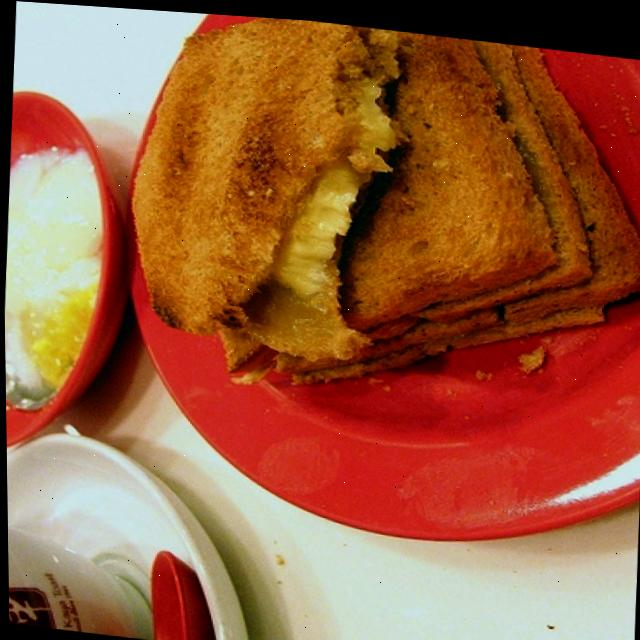面包点心: (122, 6, 640, 432)
